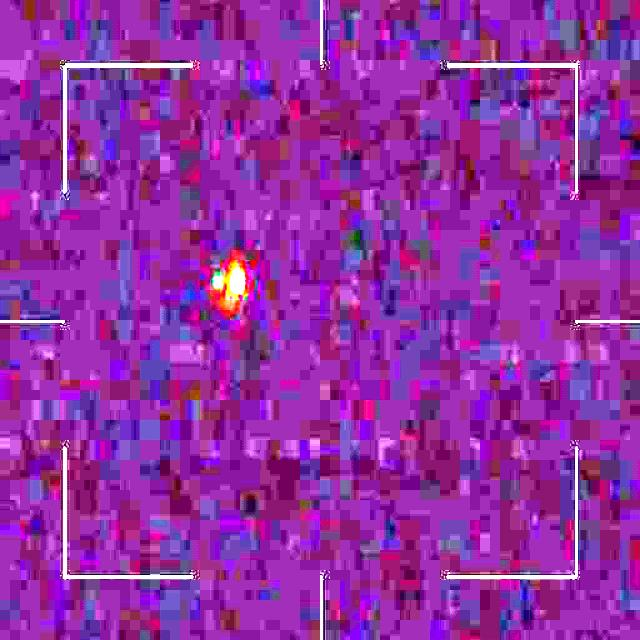bird: (215, 262, 249, 309)
